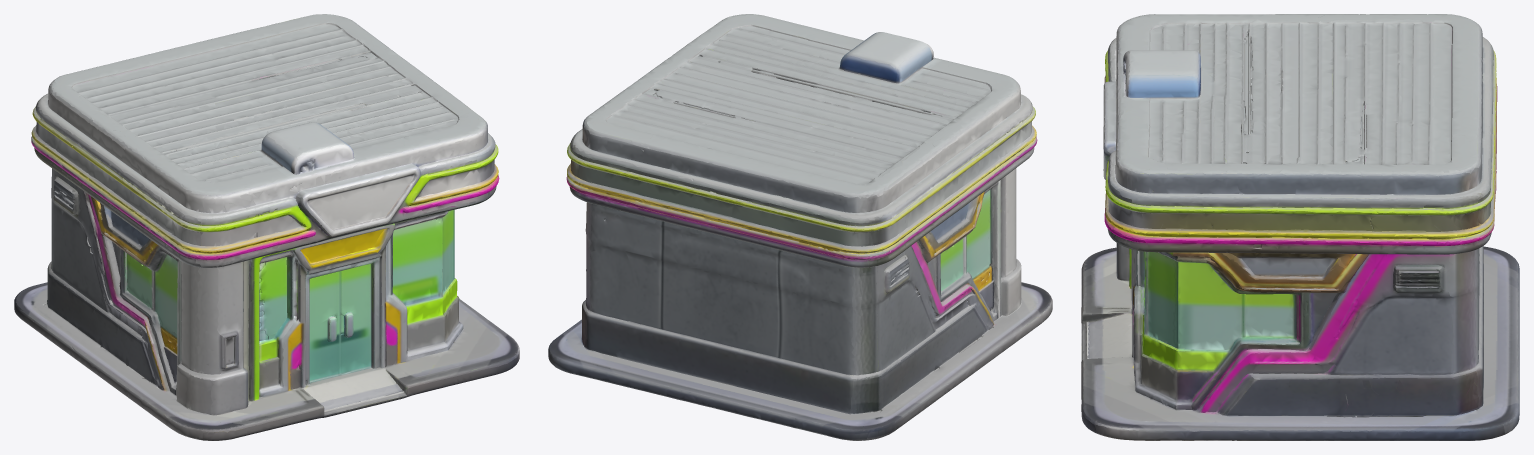
Rendered from u_bld_convenience_store.glb.
The picture shows the model from 3 angles, left to right: view 1: azimuth 30°, elevation 25°; view 2: azimuth 150°, elevation 25°; view 3: azimuth 270°, elevation 25°; orthographic projection. The views are drawn at different scales.
Parts seen in each view (by area): view 1: geometry_0; view 2: geometry_0; view 3: geometry_0.
Boxes of the visible parts, <box> form: geometry_0: <box>14,14,519,440</box>; geometry_0: <box>548,14,1052,440</box>; geometry_0: <box>1081,14,1519,440</box>.
Size of the model in its own units: 3 by 2.1 by 3.
Materials: 1 (1 with a texture image).
